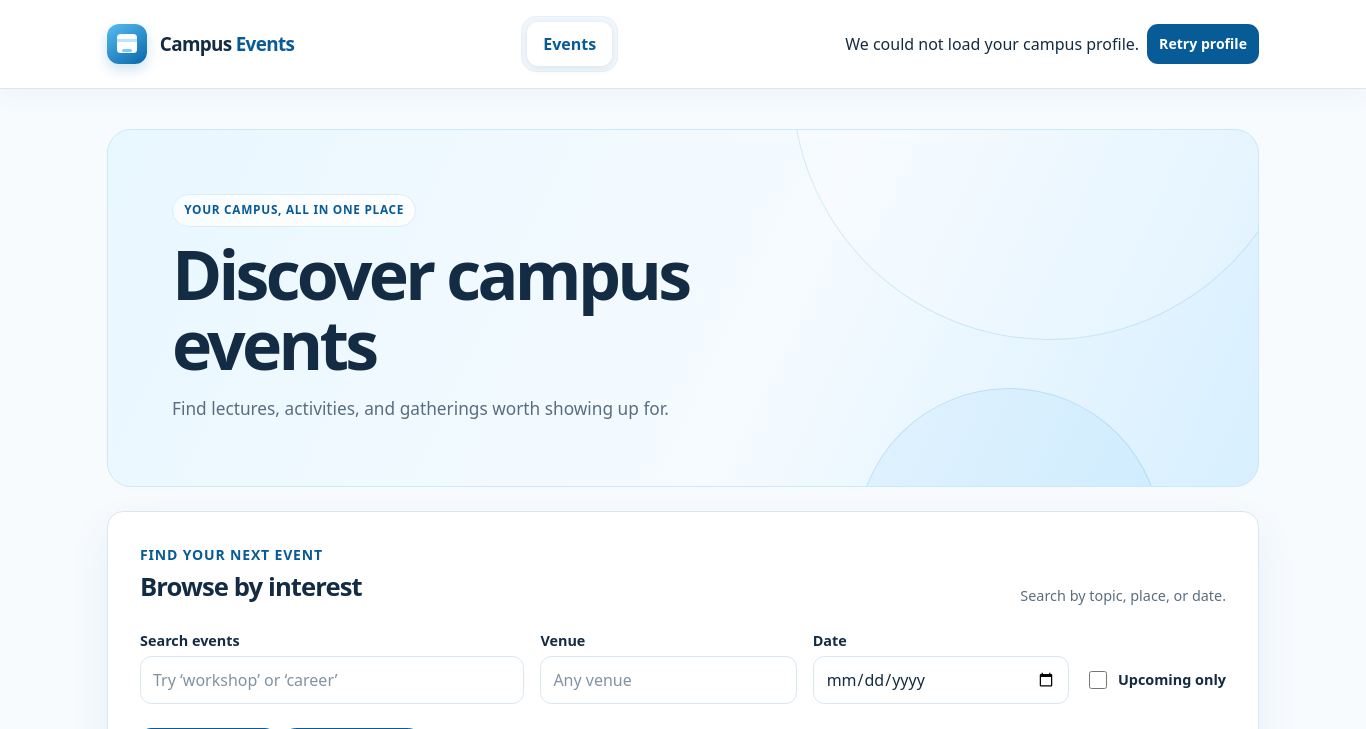
Test: AuthProvider › offers a profile retry without trusting unverified account claims
The image size is (1366, 729).
Expected: the message shows "could not load your campus profile", [845,33,1139,55]
Expected: the text "ORGANIZER" is not shown
Click the button "Retry profile": click(1203, 44) [1147,24,1259,64]
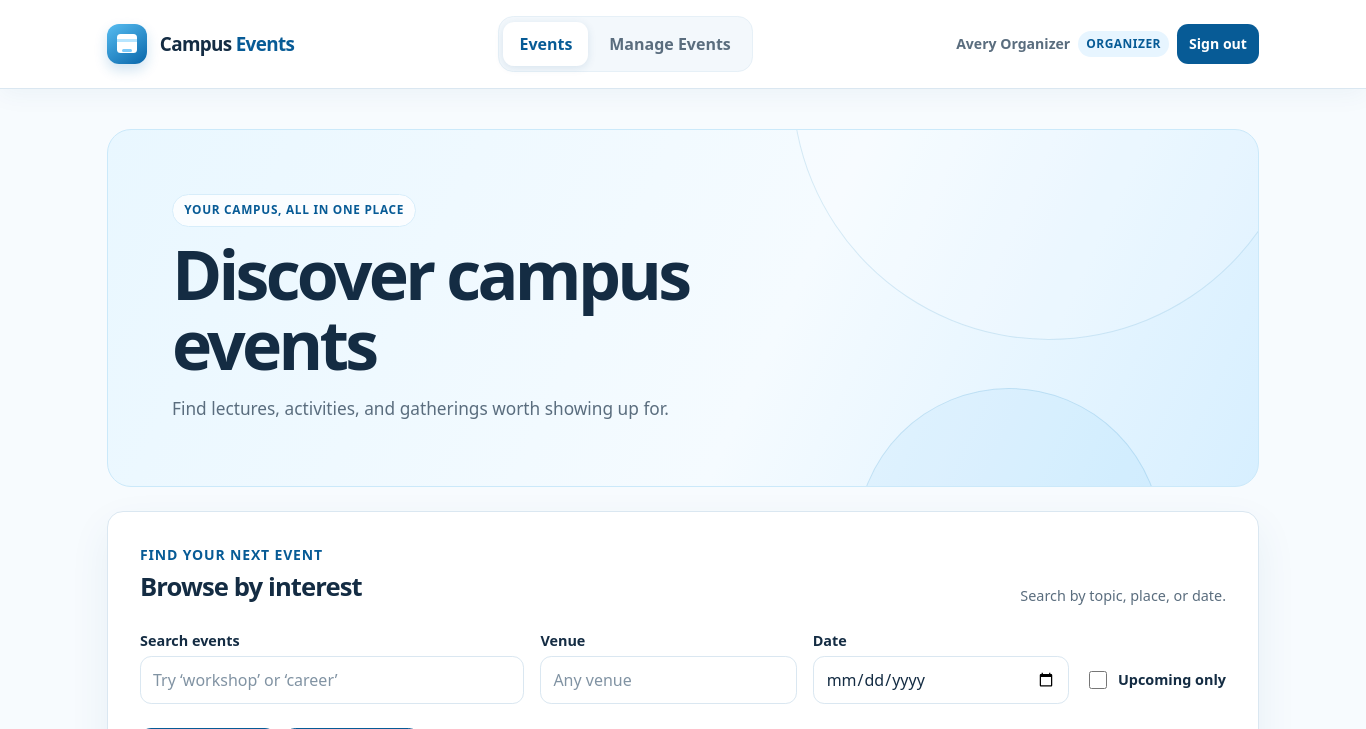
Result: the text "ORGANIZER" is shown at [1078,31,1169,57]
